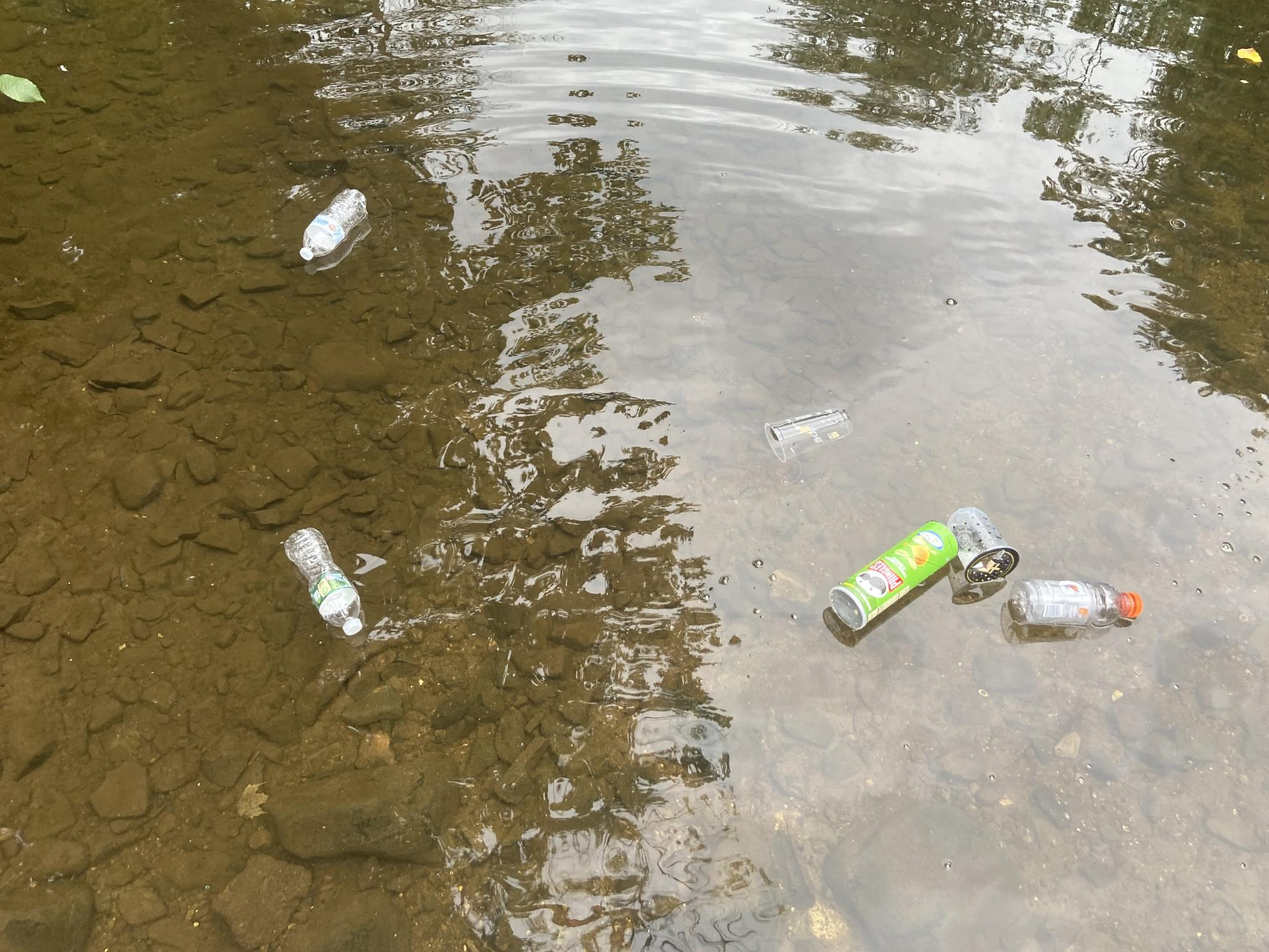metal: (312, 814, 434, 952)
plastic: (309, 277, 436, 366), (687, 292, 773, 380), (483, 756, 552, 859)
